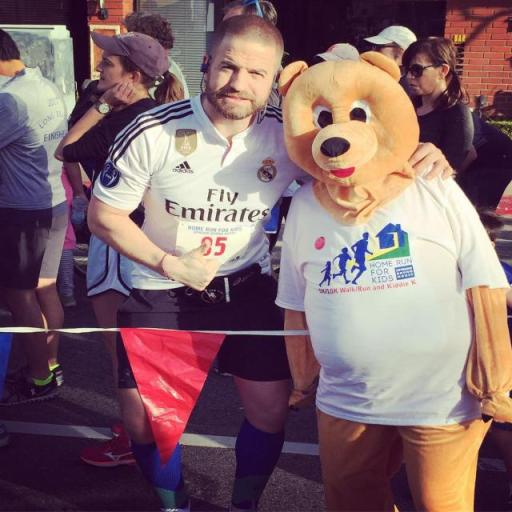Adidas: (170, 156, 198, 178)
Emirates: (162, 182, 272, 224)
